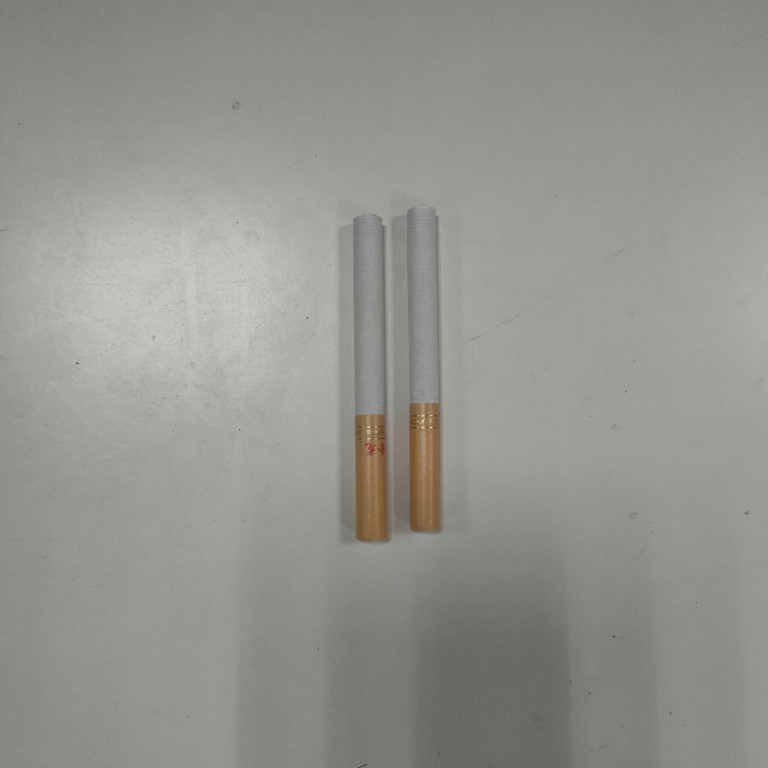cigarette: (401, 198, 451, 539), (348, 210, 396, 546)
